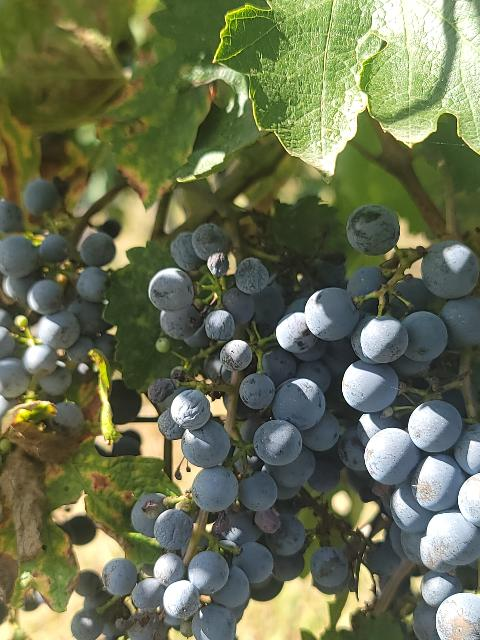grapes: (136, 224, 359, 640), (341, 279, 480, 640), (0, 200, 115, 409)
